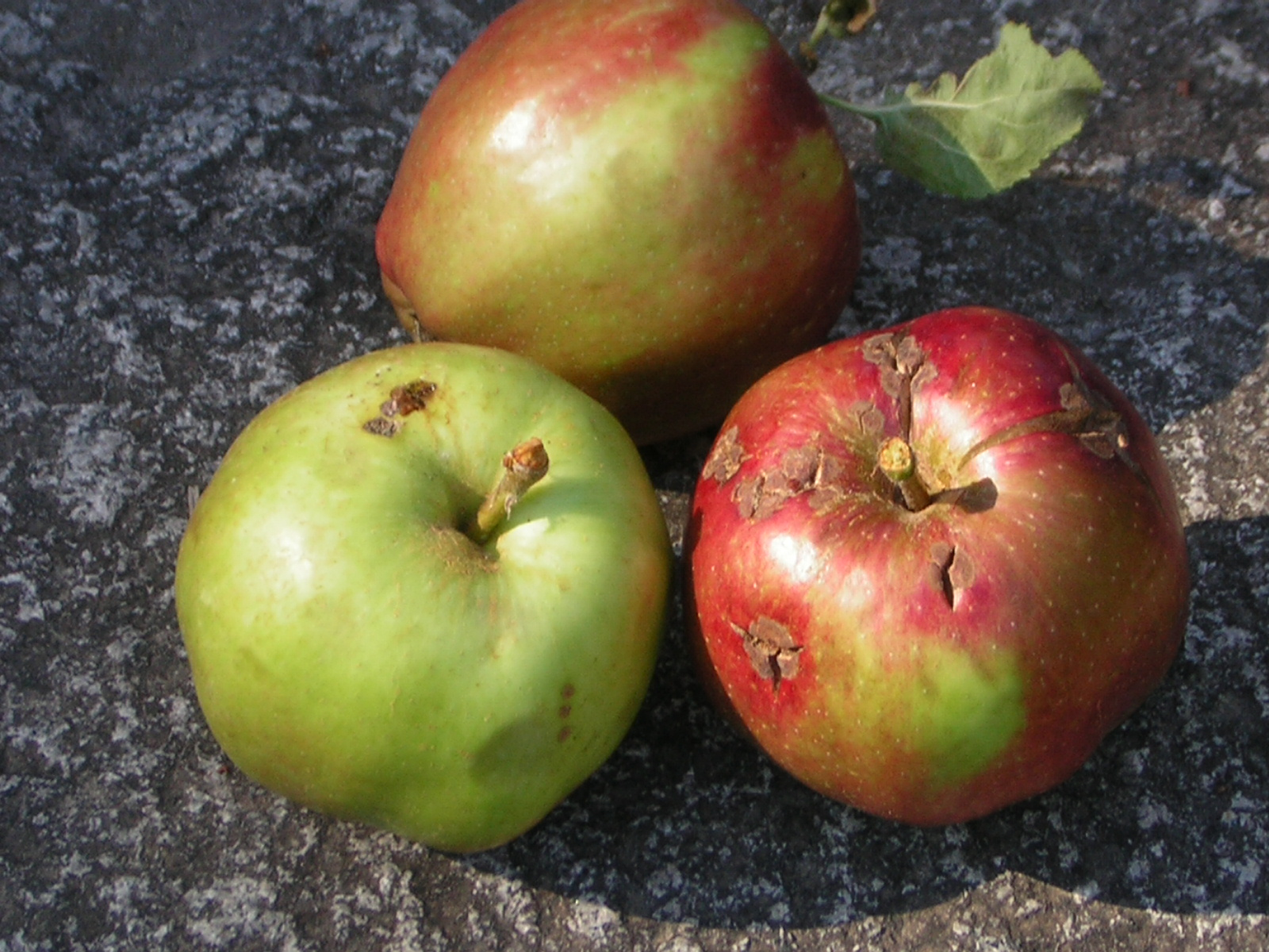defect: (713, 306, 1131, 692), (359, 363, 450, 456)
